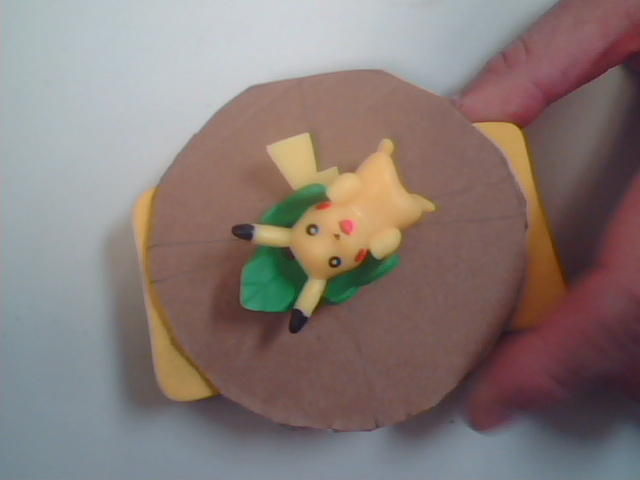pikachu: (232, 123, 485, 376)
